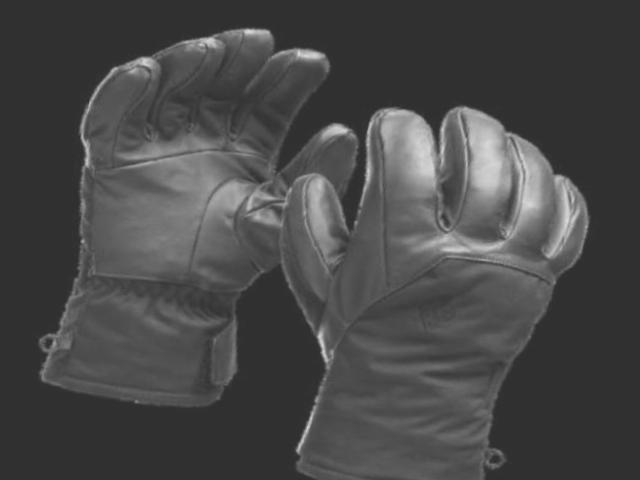Hand-in-Glove: (0, 0, 419, 453), (194, 52, 629, 480)
